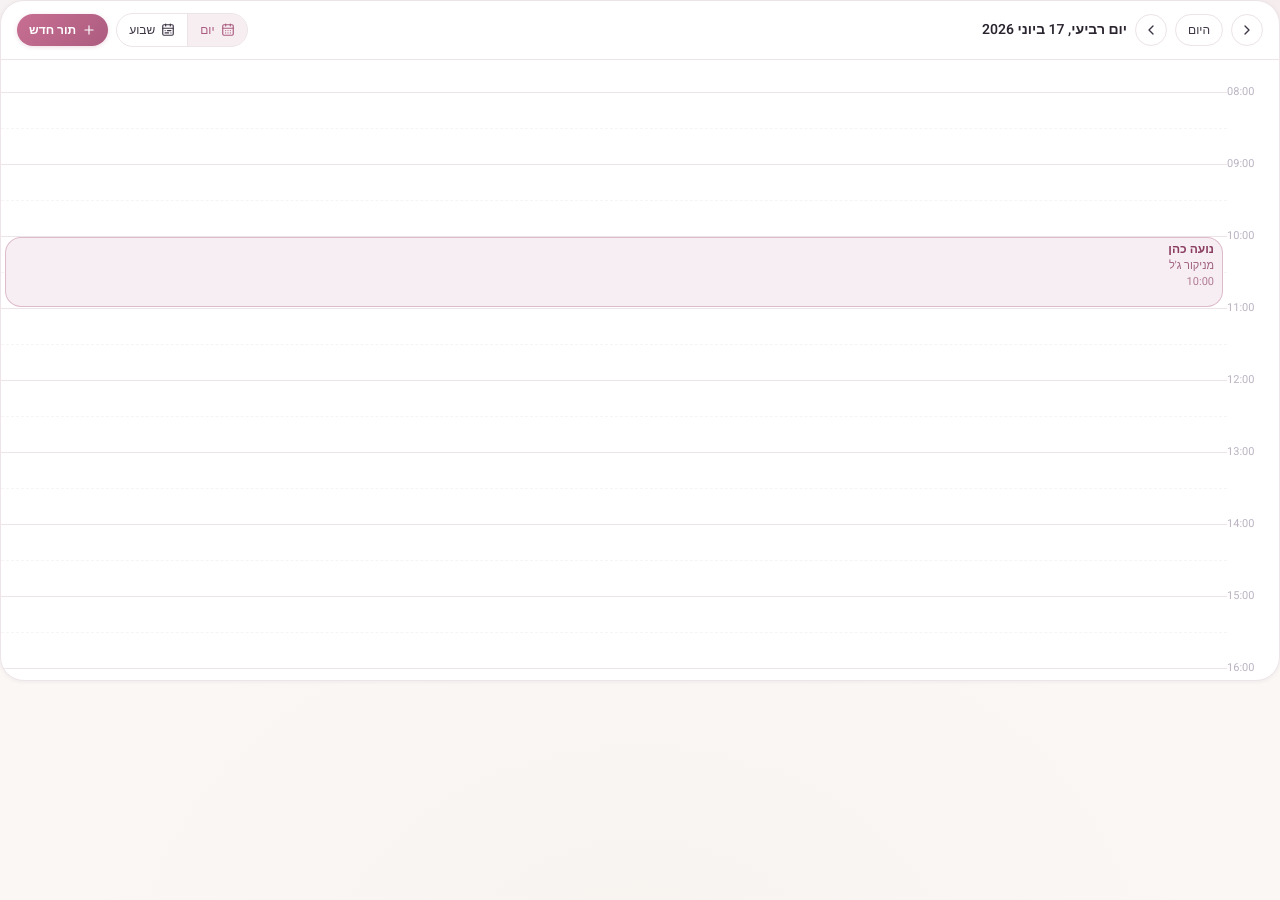
Test: BookingsCalendar — appointments + detail panel › closes the detail panel via its close button
(page scrolled)
Click the button "נועה כהן מניקור ג'ל 10:00": point(1191, 249) [5, 237, 1223, 307]
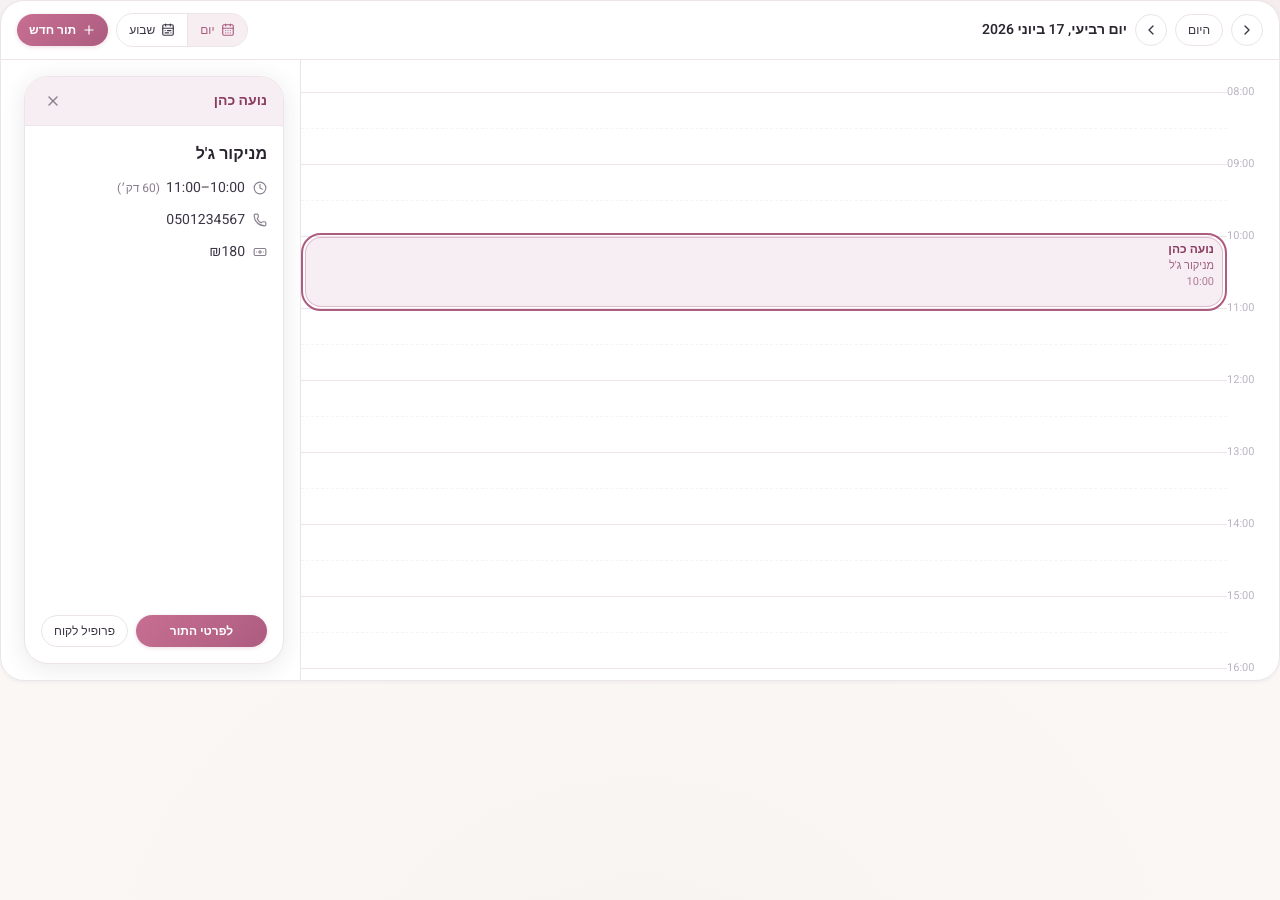
Result: the link "לפרטי התור" is shown at [136, 615, 267, 647]
Click the 6th button: point(53, 101) [41, 89, 65, 113]
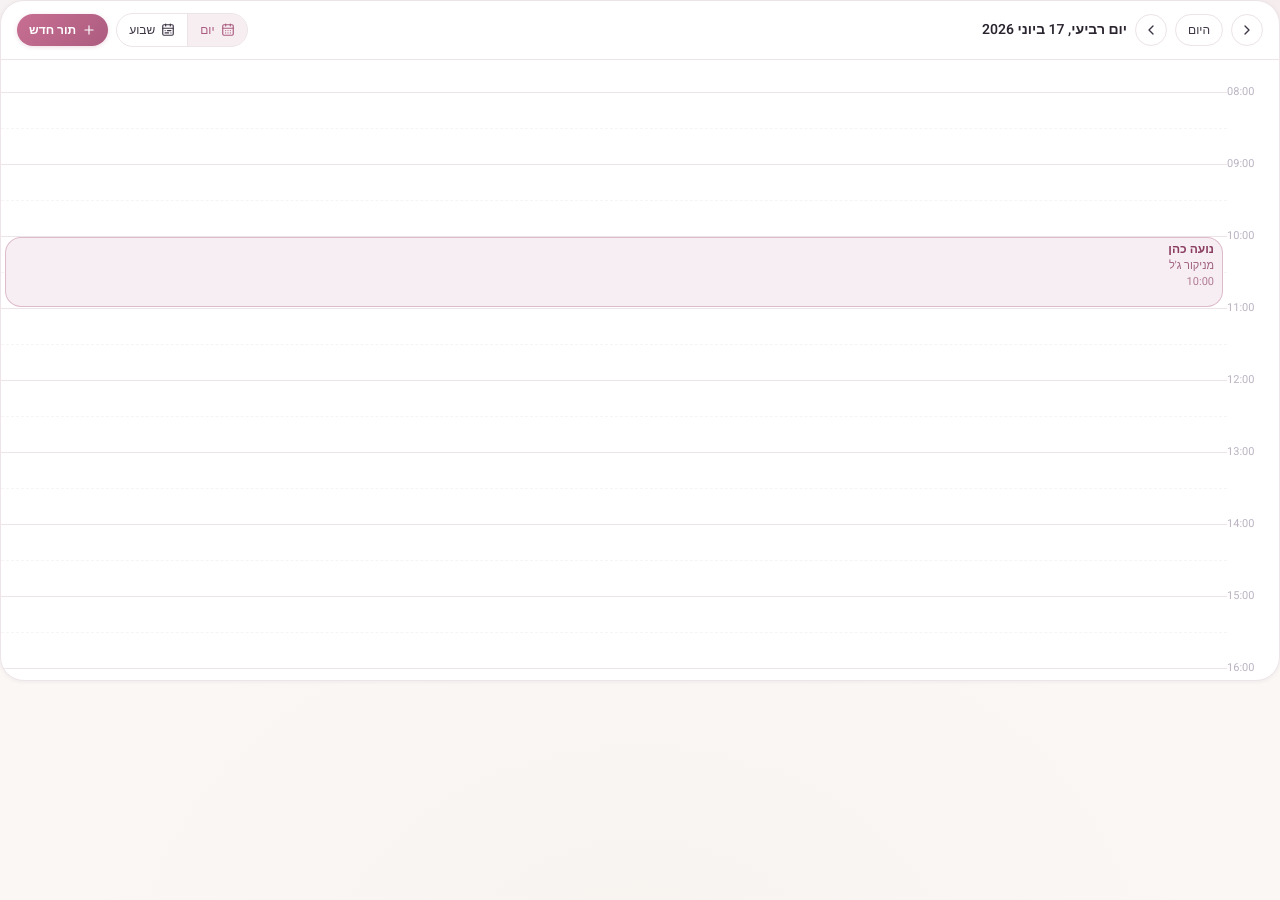
Result: the link "לפרטי התור" is gone
